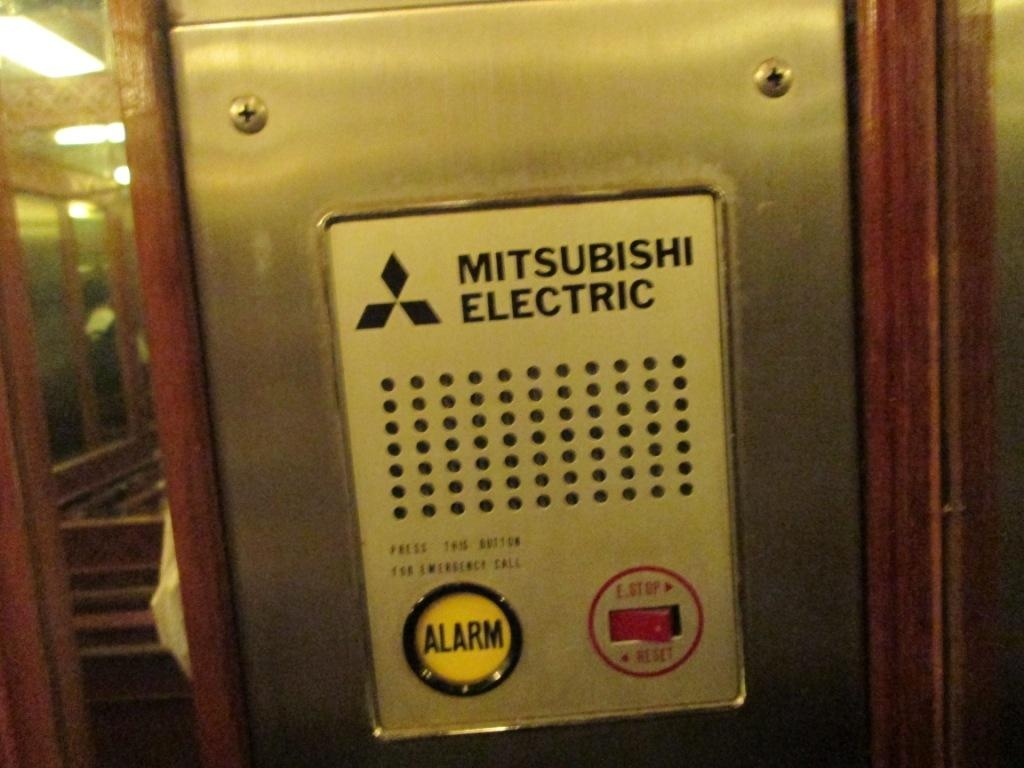bt_switch: (582, 558, 708, 680)
text_alarm: (399, 577, 525, 699)
